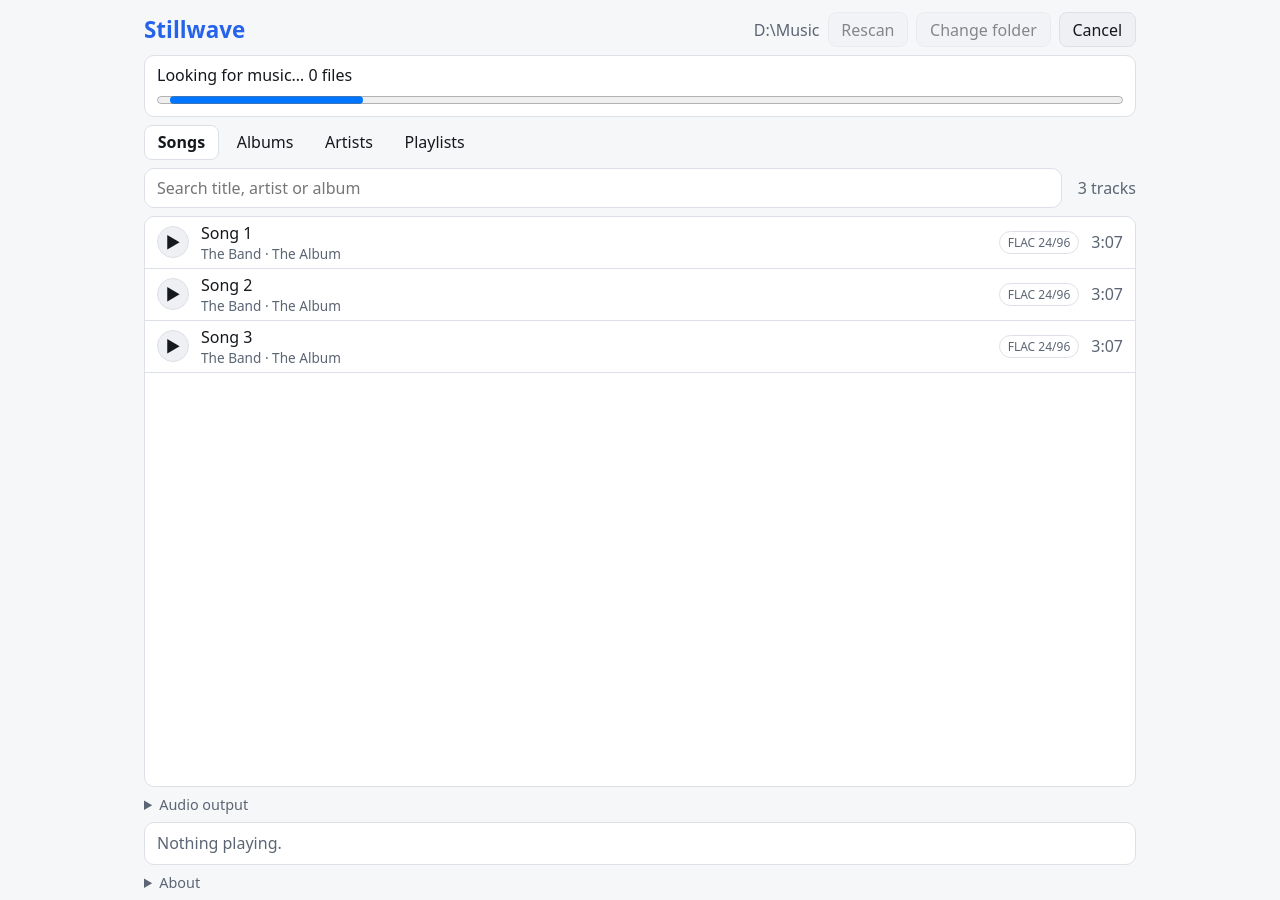
Test case: library › explains a playback failure instead of failing silently
The width and height of the screenshot is (1280, 900).
Click the button named "Play Song 1" at {"x": 173, "y": 242}, box [157,226,189,258]
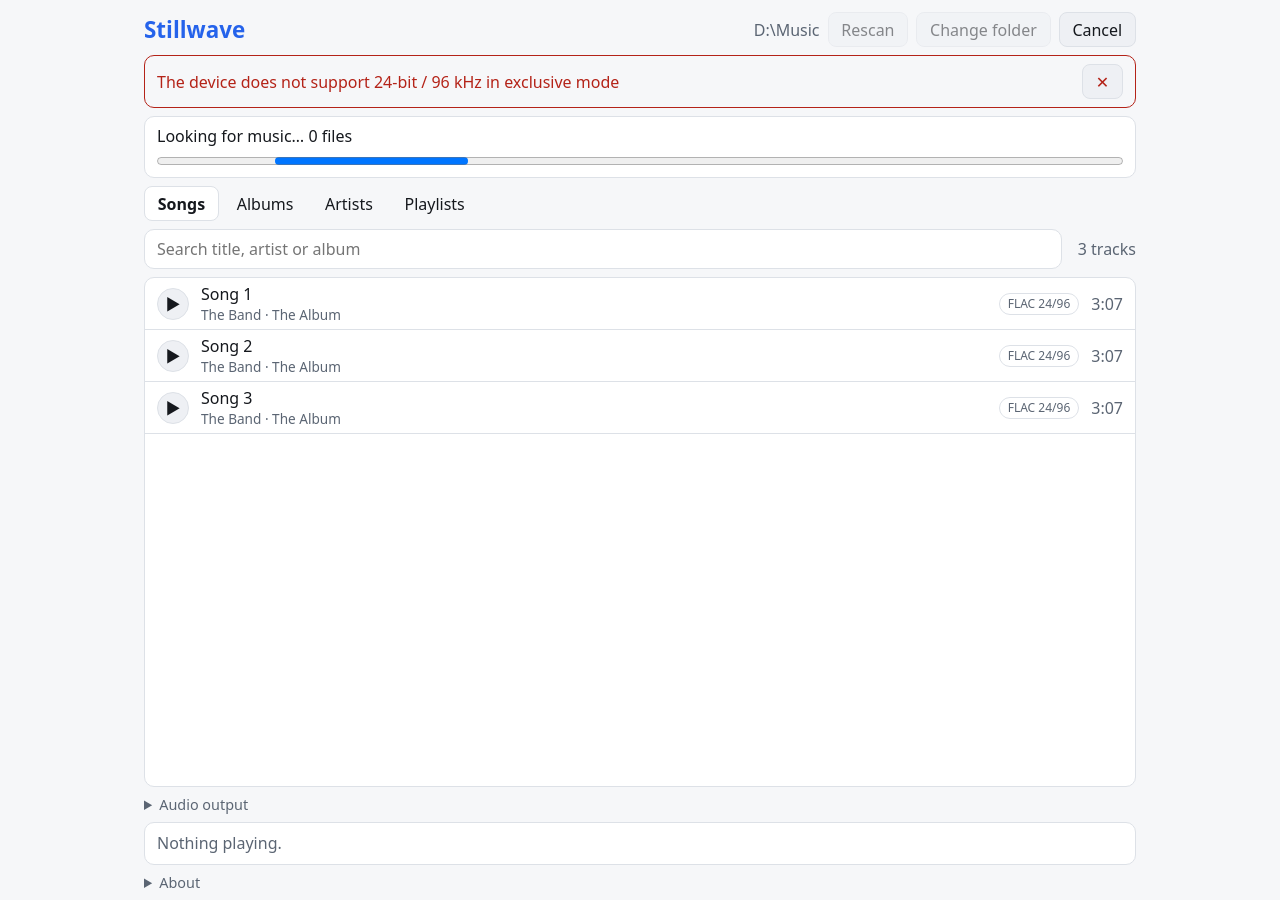
Expected: the message "The device does not support 24-bit / 96 kHz in exclusive mode ✕" is shown, [144,55,1136,108]
